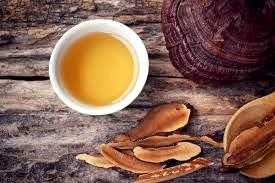Ganoderma - Fruit Body: (159, 0, 275, 82)
